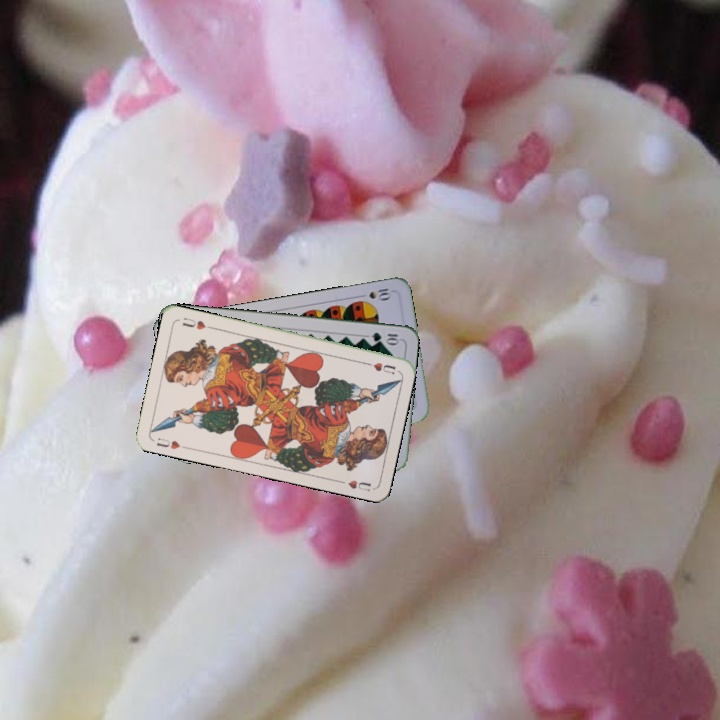G10: (368, 328, 402, 345)
HU: (360, 358, 398, 376), (153, 433, 183, 452)
S10: (354, 284, 394, 303)
